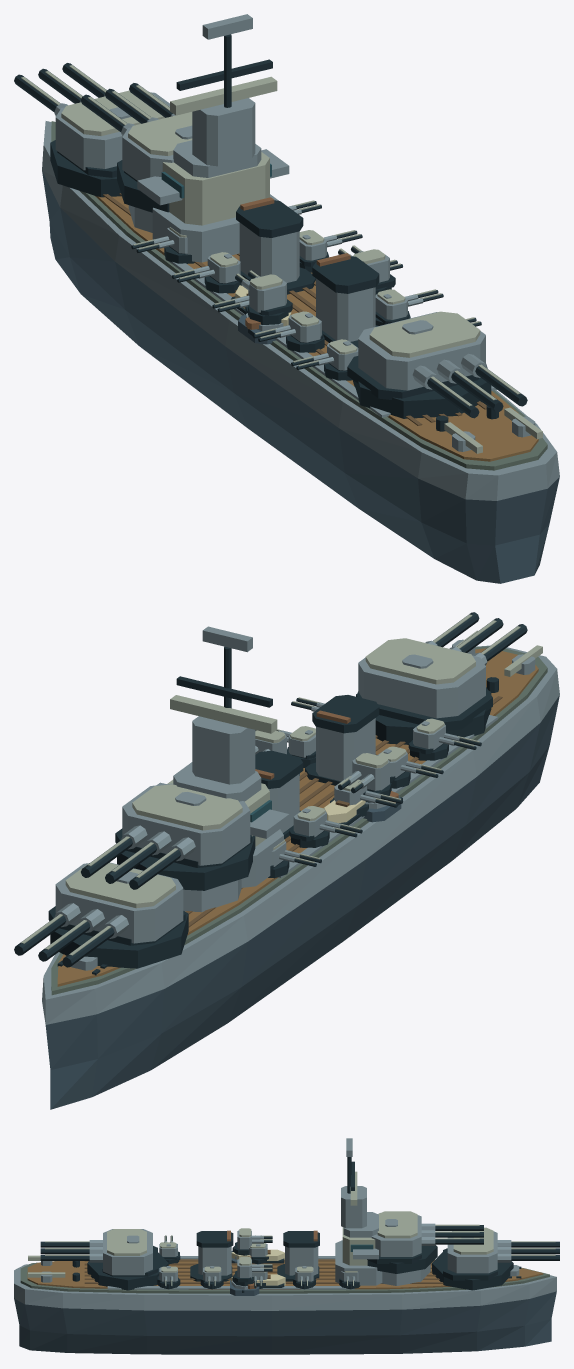
File: historic-missouri.glb
3 views of the same model, one above another, from view 1: azimuth 30°, elevation 25°; view 2: azimuth 150°, elevation 25°; view 3: azimuth 270°, elevation 25° (orthographic). The views are drawn at different scales.
Visible parts, largest first — view 1: historic-missouri-historic-missouri-geometry, historic-missouri-part_bridge.011-geometry, historic-missouri-turret_main_2.007-geometry, historic-missouri-turret_main_0.008-geometry, historic-missouri-turret_main_1.007-geometry, historic-missouri-historic_funnel_0.012-geometry, historic-missouri-historic_funnel_1.004-geometry, historic-missouri-turret_aa_aa-port.013-geometry, historic-missouri-turret_secondary_3.002-geometry, historic-missouri-turret_secondary_1.003-geometry, historic-missouri-turret_secondary_8.001-geometry, historic-missouri-turret_secondary_4.002-geometry (+3 smaller); view 2: historic-missouri-historic-missouri-geometry, historic-missouri-turret_main_1.007-geometry, historic-missouri-turret_main_2.007-geometry, historic-missouri-turret_main_0.008-geometry, historic-missouri-part_bridge.011-geometry, historic-missouri-historic_funnel_1.004-geometry, historic-missouri-historic_funnel_0.012-geometry, historic-missouri-turret_secondary_1.003-geometry, historic-missouri-turret_secondary_4.002-geometry, historic-missouri-turret_aa_aa-port.013-geometry, historic-missouri-turret_secondary_3.002-geometry, historic-missouri-turret_secondary_2.002-geometry (+3 smaller); view 3: historic-missouri-historic-missouri-geometry, historic-missouri-turret_main_2.007-geometry, historic-missouri-turret_main_0.008-geometry, historic-missouri-turret_main_1.007-geometry, historic-missouri-part_bridge.011-geometry, historic-missouri-historic_funnel_1.004-geometry, historic-missouri-historic_funnel_0.012-geometry, historic-missouri-turret_aa_aa-starboard.011-geometry, historic-missouri-turret_aa_aa-port.013-geometry, historic-missouri-turret_secondary_8.001-geometry, historic-missouri-turret_secondary_9.001-geometry, historic-missouri-turret_secondary_6.002-geometry (+4 smaller).
Boxes of the visible parts, <box> form: historic-missouri-historic-missouri-geometry: <box>42,121,559,583</box>; historic-missouri-part_bridge.011-geometry: <box>137,14,289,262</box>; historic-missouri-turret_main_2.007-geometry: <box>347,311,527,418</box>; historic-missouri-turret_main_0.008-geometry: <box>14,63,169,197</box>; historic-missouri-turret_main_1.007-geometry: <box>81,83,192,212</box>; historic-missouri-historic_funnel_0.012-geometry: <box>236,197,315,294</box>; historic-missouri-historic_funnel_1.004-geometry: <box>312,253,379,347</box>; historic-missouri-turret_aa_aa-port.013-geometry: <box>235,270,292,324</box>; historic-missouri-turret_secondary_3.002-geometry: <box>253,311,324,352</box>; historic-missouri-turret_secondary_1.003-geometry: <box>172,252,242,293</box>; historic-missouri-turret_secondary_8.001-geometry: <box>375,289,443,325</box>; historic-missouri-turret_secondary_4.002-geometry: <box>291,339,358,380</box>; historic-missouri-historic-missouri-geometry: <box>42,630,559,1109</box>; historic-missouri-turret_main_1.007-geometry: <box>81,783,255,890</box>; historic-missouri-turret_main_2.007-geometry: <box>356,612,527,744</box>; historic-missouri-turret_main_0.008-geometry: <box>14,862,188,968</box>; historic-missouri-part_bridge.011-geometry: <box>157,626,289,887</box>; historic-missouri-historic_funnel_1.004-geometry: <box>305,695,379,785</box>; historic-missouri-historic_funnel_0.012-geometry: <box>255,750,303,839</box>; historic-missouri-turret_secondary_1.003-geometry: <box>289,806,362,847</box>; historic-missouri-turret_secondary_4.002-geometry: <box>408,718,481,760</box>; historic-missouri-turret_aa_aa-port.013-geometry: <box>338,753,391,802</box>; historic-missouri-turret_secondary_3.002-geometry: <box>377,746,443,788</box>; historic-missouri-turret_secondary_2.002-geometry: <box>330,779,403,816</box>; historic-missouri-historic-missouri-geometry: <box>14,1249,556,1354</box>; historic-missouri-turret_main_2.007-geometry: <box>40,1229,168,1290</box>; historic-missouri-turret_main_0.008-geometry: <box>432,1227,559,1290</box>; historic-missouri-turret_main_1.007-geometry: <box>367,1211,483,1273</box>; historic-missouri-part_bridge.011-geometry: <box>335,1138,382,1285</box>; historic-missouri-historic_funnel_1.004-geometry: <box>190,1230,233,1281</box>; historic-missouri-historic_funnel_0.012-geometry: <box>277,1230,319,1281</box>; historic-missouri-turret_aa_aa-starboard.011-geometry: <box>232,1257,272,1286</box>; historic-missouri-turret_aa_aa-port.013-geometry: <box>232,1228,272,1255</box>; historic-missouri-turret_secondary_8.001-geometry: <box>200,1266,223,1289</box>; historic-missouri-turret_secondary_9.001-geometry: <box>157,1266,180,1289</box>; historic-missouri-turret_secondary_6.002-geometry: <box>293,1266,315,1289</box>.
Size of the model in its own units: 1.07 by 1.92 by 4.82.
